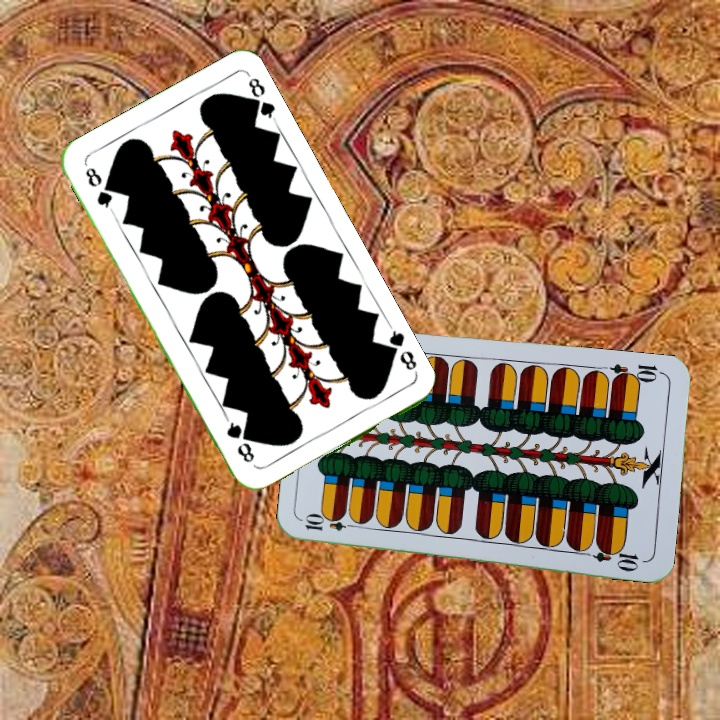E10: (607, 360, 666, 386), (301, 514, 360, 534)
G8: (379, 323, 421, 378), (81, 163, 116, 215)
